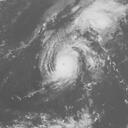cyclone: (37, 29, 99, 97)
